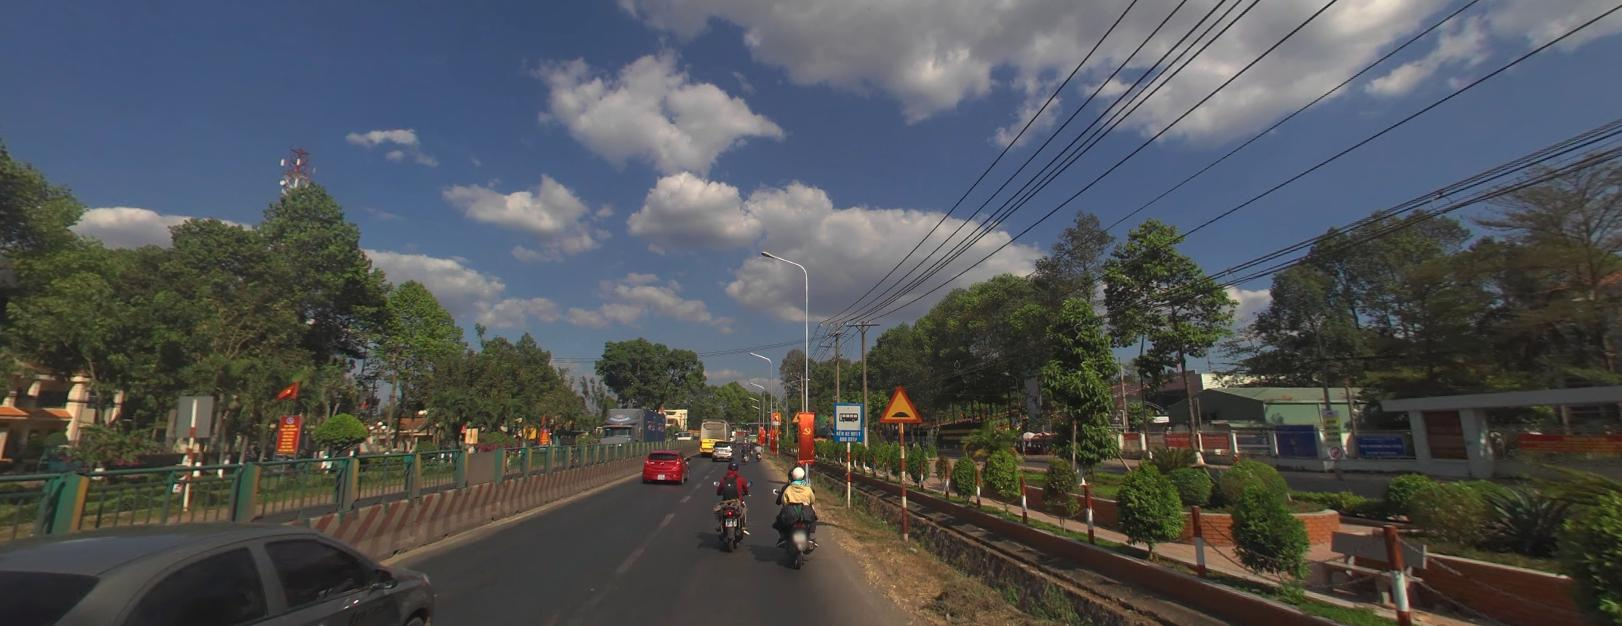Nguy hiem: (879, 384, 921, 421), (791, 409, 805, 421), (773, 425, 782, 433)
